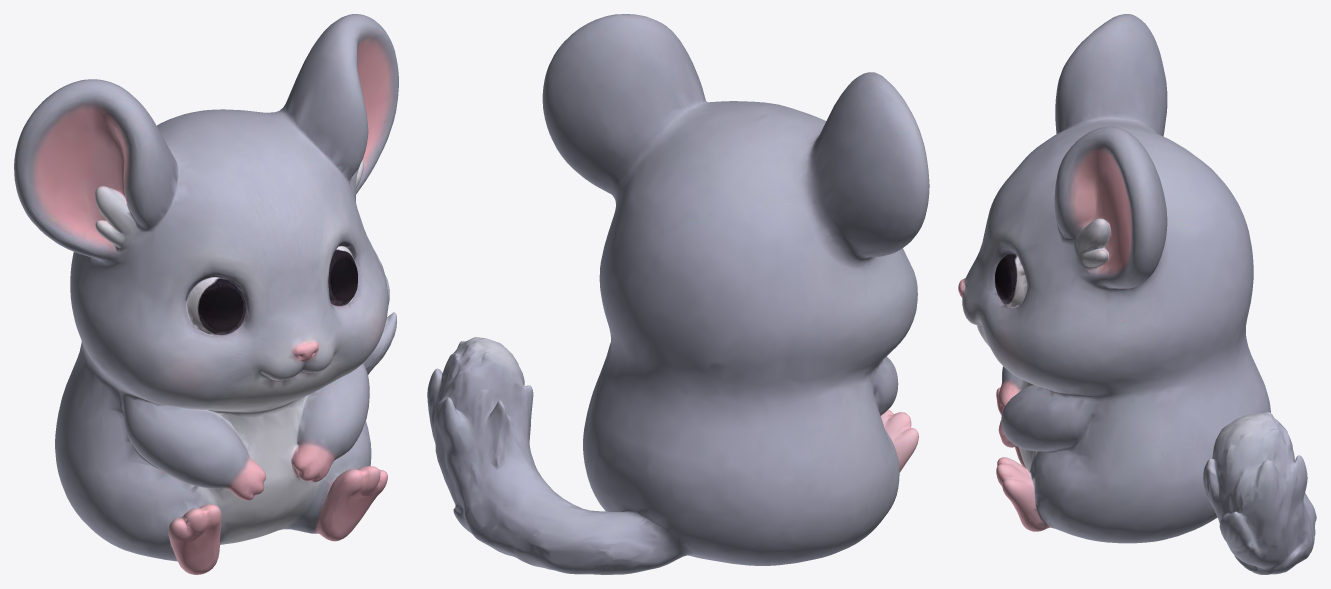
The model's file is cincila.glb.
3 renders of one model, left to right at view 1: azimuth 30°, elevation 25°; view 2: azimuth 150°, elevation 25°; view 3: azimuth 270°, elevation 25°, orthographic. The views are drawn at different scales.
Bounding box in the file's own units: 1.82 × 1.9 × 1.45.
Materials: 1 (1 with a texture image).
